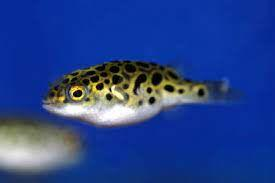Green Spotted Puffer: (42, 57, 246, 128)
